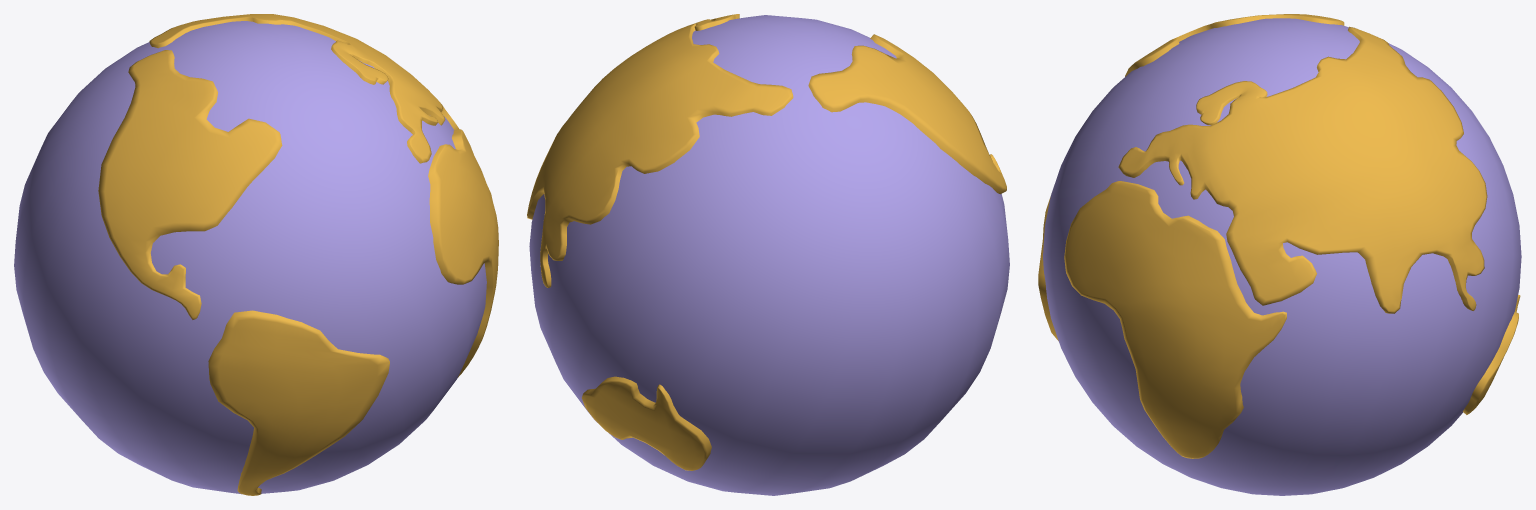
File: earthv4_UV-transformed.glb
3 views of the same model, side by side, from view 1: azimuth 30°, elevation 25°; view 2: azimuth 150°, elevation 25°; view 3: azimuth 270°, elevation 25° (orthographic).
Parts seen in each view (by area): view 1: Sphere, optimized-verts; view 2: Sphere, optimized-verts; view 3: optimized-verts, Sphere.
Part boxes in pixels (<box>): Sphere: <box>14,21,486,494</box>; optimized-verts: <box>98,14,498,495</box>; Sphere: <box>529,15,1009,495</box>; optimized-verts: <box>527,14,1006,470</box>; optimized-verts: <box>1038,14,1520,458</box>; Sphere: <box>1043,18,1521,495</box>.
Size of the model in its own units: 3.83 by 3.79 by 3.83.
